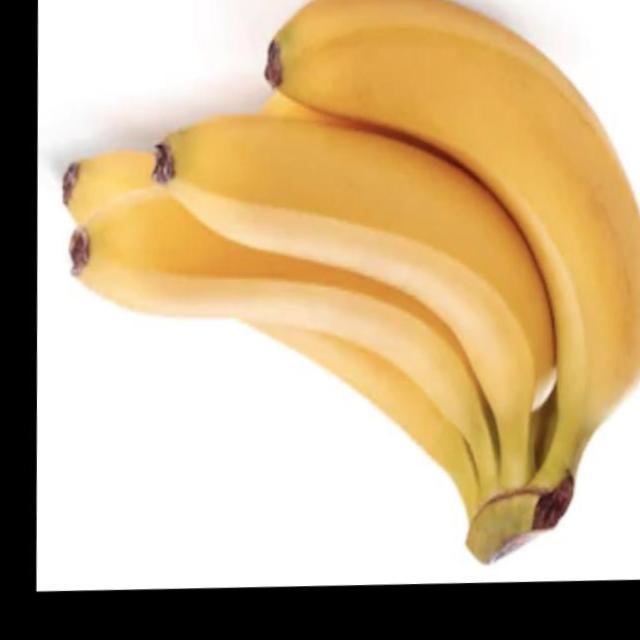Banana: (50, 0, 640, 585)
